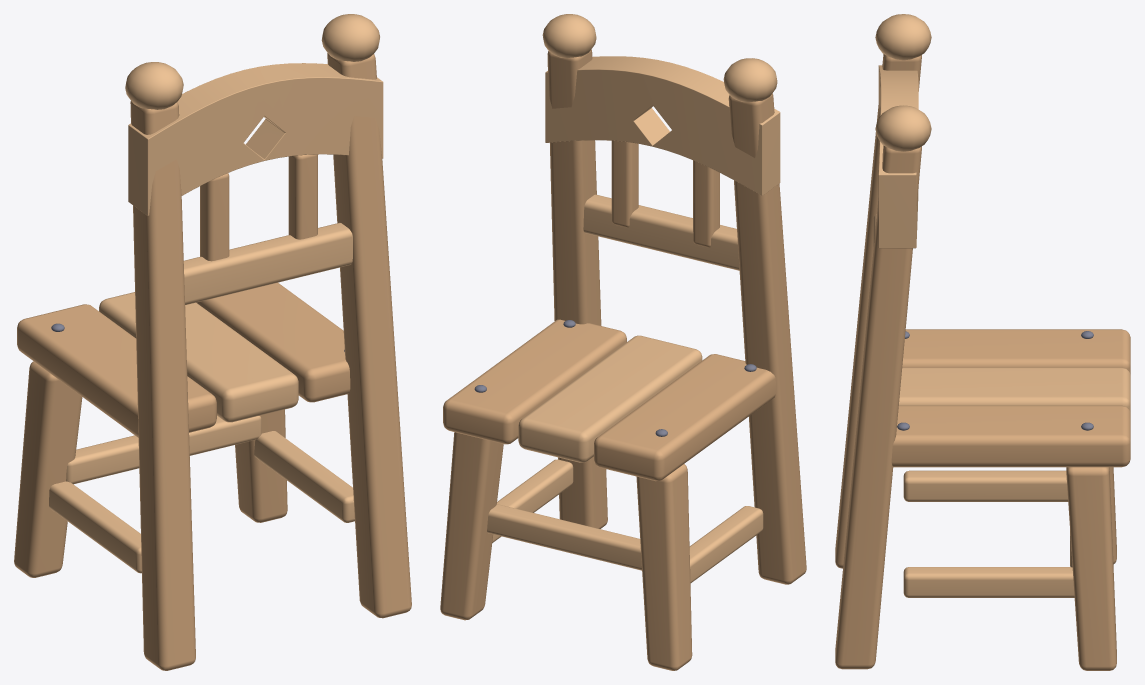
File: chair2.glb
3 renders of one model, left to right at view 1: azimuth 30°, elevation 25°; view 2: azimuth 150°, elevation 25°; view 3: azimuth 270°, elevation 25°, orthographic. The views are drawn at different scales.
Parts seen in each view (by area): view 1: back-1, back1, toprail, seat0, front-1, seat2, seat1, midrail, stretch_f, stretch1, stretch-1, front1 (+4 smaller); view 2: back-1, toprail, back1, seat0, seat1, seat2, front-1, front1, midrail, stretch_f, stretch-1, spindle1 (+4 smaller); view 3: back1, seat2, seat1, seat0, front1, stretch1, stretch-1, toprail, back-1, Sphere.001, Sphere.
Part boxes in pixels (box(x1,y1,x2,y2)): back-1: box(130, 101, 195, 670); back1: box(327, 53, 411, 618); toprail: box(128, 63, 383, 215); seat0: box(17, 304, 216, 437); front-1: box(14, 361, 82, 577); seat2: box(196, 282, 350, 402); seat1: box(99, 292, 298, 422); midrail: box(183, 222, 352, 305); stretch_f: box(66, 416, 261, 484); stretch1: box(254, 431, 354, 522); stretch-1: box(49, 481, 141, 573); front1: box(235, 409, 287, 522); back-1: box(728, 93, 806, 584); toprail: box(545, 56, 780, 195); back1: box(547, 49, 607, 528); seat0: box(594, 354, 776, 481); seat1: box(518, 335, 702, 462); seat2: box(443, 319, 626, 444); front-1: box(636, 464, 692, 670); front1: box(440, 432, 503, 620); midrail: box(583, 194, 739, 270); stretch_f: box(487, 504, 641, 570); stretch-1: box(689, 506, 763, 582); spindle1: box(611, 140, 638, 227); back1: box(835, 145, 921, 669); seat2: box(891, 405, 1130, 467); seat1: box(899, 367, 1130, 412); seat0: box(902, 329, 1130, 374); front1: box(1066, 467, 1116, 670); stretch1: box(903, 567, 1074, 597); stretch-1: box(903, 470, 1068, 501); toprail: box(878, 65, 918, 248); back-1: box(835, 54, 921, 568); Sphere.001: box(875, 105, 931, 151); Sphere: box(875, 14, 931, 60).
Size of the model in its own units: 0.5283 by 1.12 by 0.5463.
